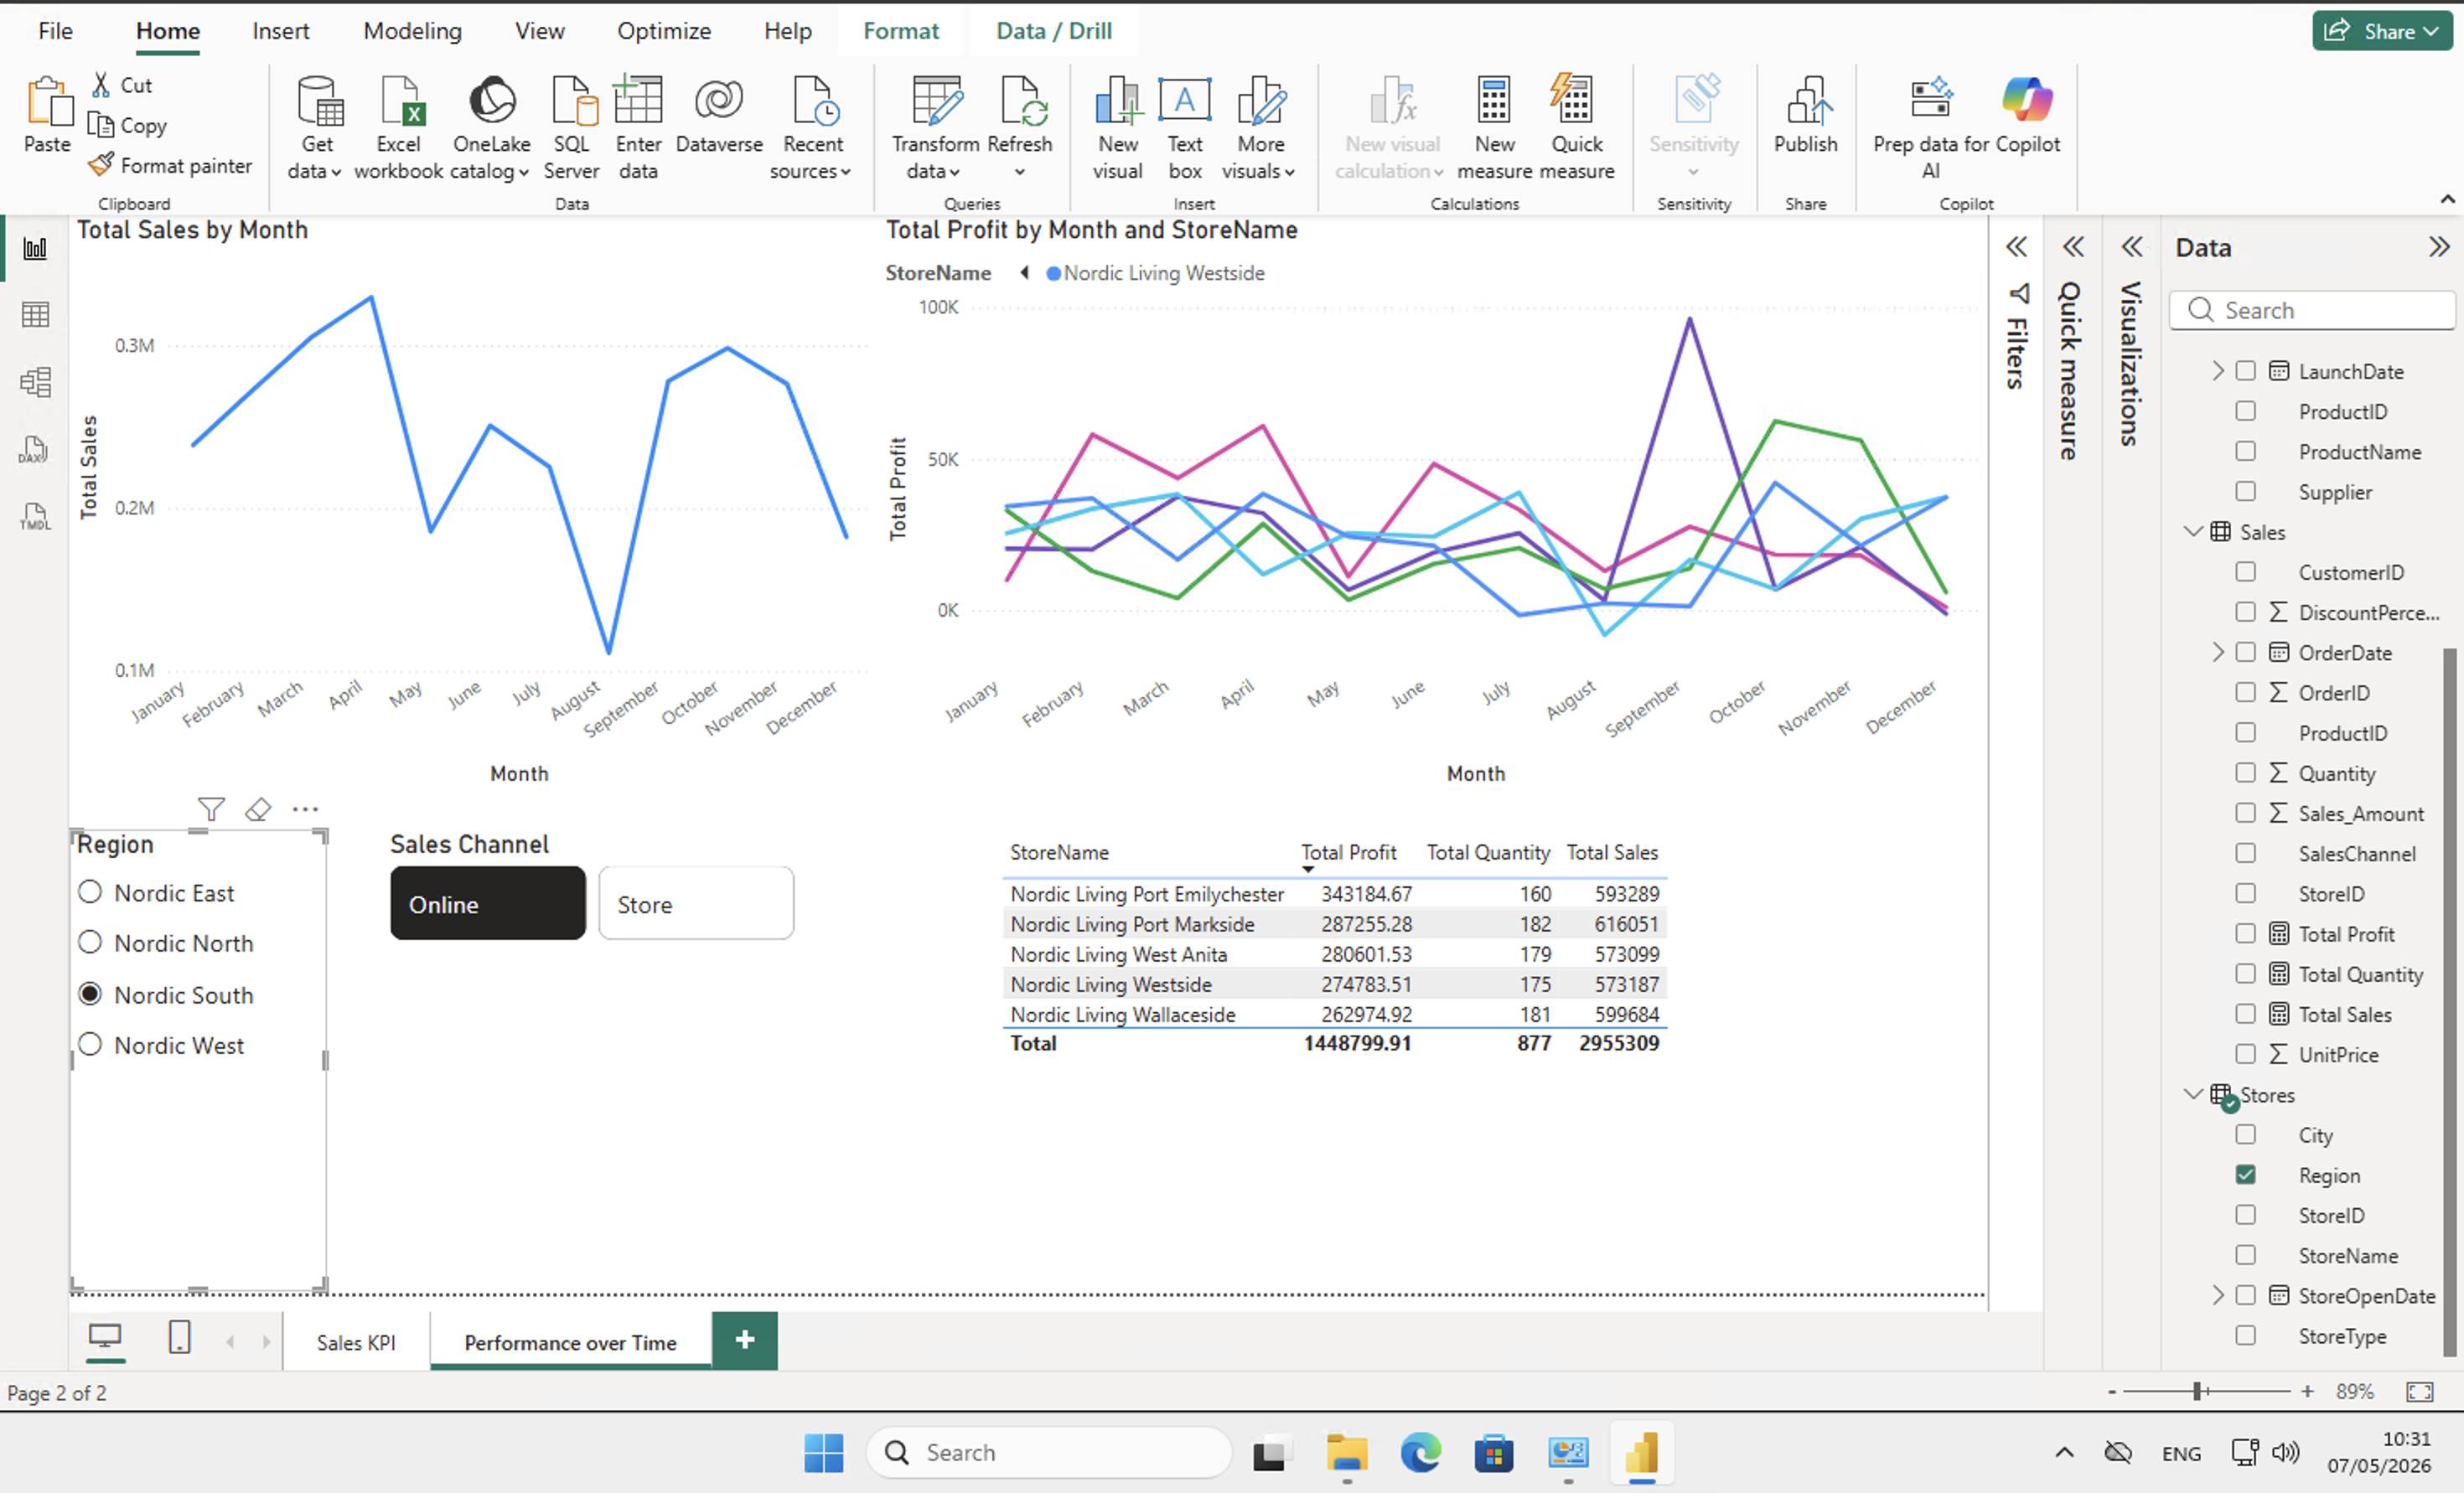

What the dashboard file says about the page in this screenshot:
{"tool":"powerbi","page":{"name":"Performance over Time","canvas":[1280,720],"ordinal":1},"visuals":[{"type":"lineChart","fields":{"Category":["Sales.OrderDate.Variation.Date Hierarchy.Year","Sales.OrderDate.Variation.Date Hierarchy.Quarter","Sales.OrderDate.Variation.Date Hierarchy.Month","Sales.OrderDate.Variation.Date Hierarchy.Day"],"Y":["Sales.Total Sales"]},"box":[9.9,0,630.1,360.2],"z":0},{"type":"lineChart","fields":{"Category":["Sales.OrderDate.Variation.Date Hierarchy.Month"],"Y":["Sales.Total Profit"],"Series":["Stores.StoreName"]},"box":[640,0,640,360.2],"z":1},{"type":"tableEx","fields":{"Values":["Stores.StoreName","Sales.Total Profit","Sales.Total Quantity","Sales.Total Sales"]},"box":[753.9,360.2,526.1,360.2],"z":2},{"type":"listSlicer","fields":{"Values":["Stores.Region"]},"box":[154.7,376.3,170.8,308.2],"z":3},{"type":"advancedSlicerVisual","title":"Sales Channel","fields":{"Values":["Sales.SalesChannel"]},"box":[325.6,376.3,281,79.2],"z":4}]}

Visuals, with their boxes on the page's 1280x720 design canvas (x1, y1, x2, y2). These are canvas units, not pixel positions in the 2464x1493 screenshot, which may show the page scaled, cropped or inside an application window:
lineChart - Sales.OrderDate.Variation.Date Hierarchy.Year x Sales.OrderDate.Variation.Date Hierarchy.Quarter: [x1=10, y1=0, x2=640, y2=360]
lineChart - Sales.OrderDate.Variation.Date Hierarchy.Month x Sales.Total Profit: [x1=640, y1=0, x2=1280, y2=360]
tableEx - Stores.StoreName x Sales.Total Profit: [x1=754, y1=360, x2=1280, y2=720]
listSlicer - Stores.Region: [x1=155, y1=376, x2=326, y2=684]
"Sales Channel" advancedSlicerVisual: [x1=326, y1=376, x2=607, y2=456]
